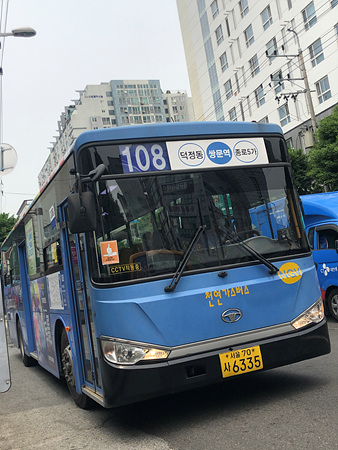bnum: (121, 143, 167, 171)
